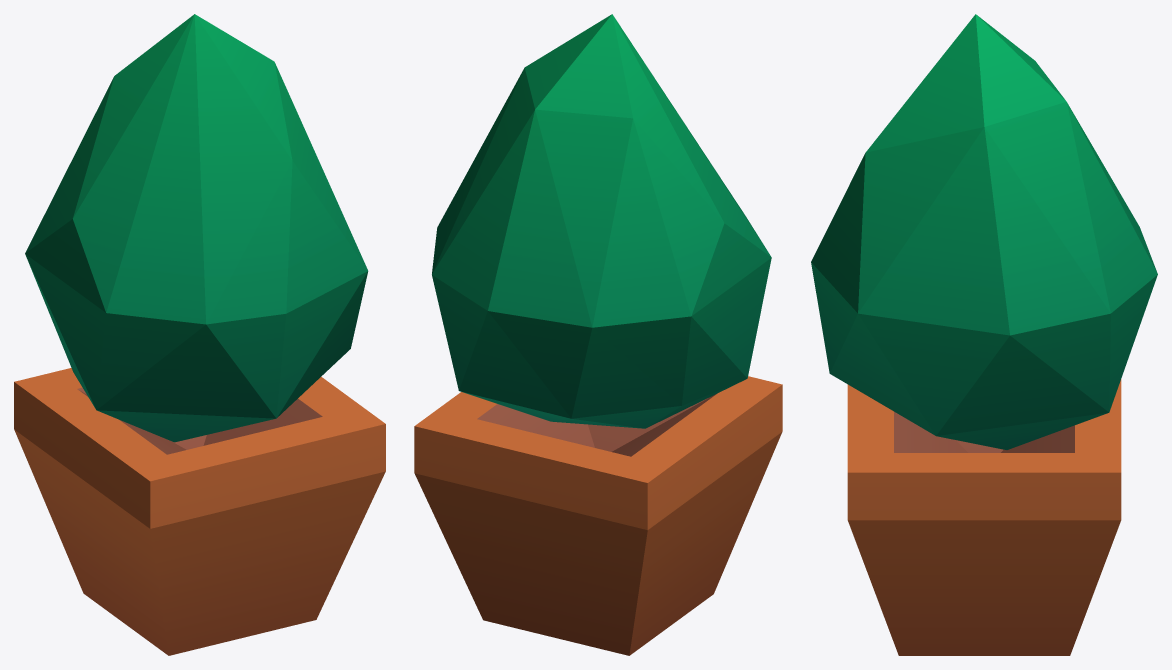
The model's file is bush.obj.
The picture shows the model from 3 angles, left to right: view 1: azimuth 30°, elevation 25°; view 2: azimuth 150°, elevation 25°; view 3: azimuth 270°, elevation 25°; orthographic projection.
Bounding box in the file's own units: 0.1894 × 0.3805 × 0.1991.
1 material, 1 textured.
